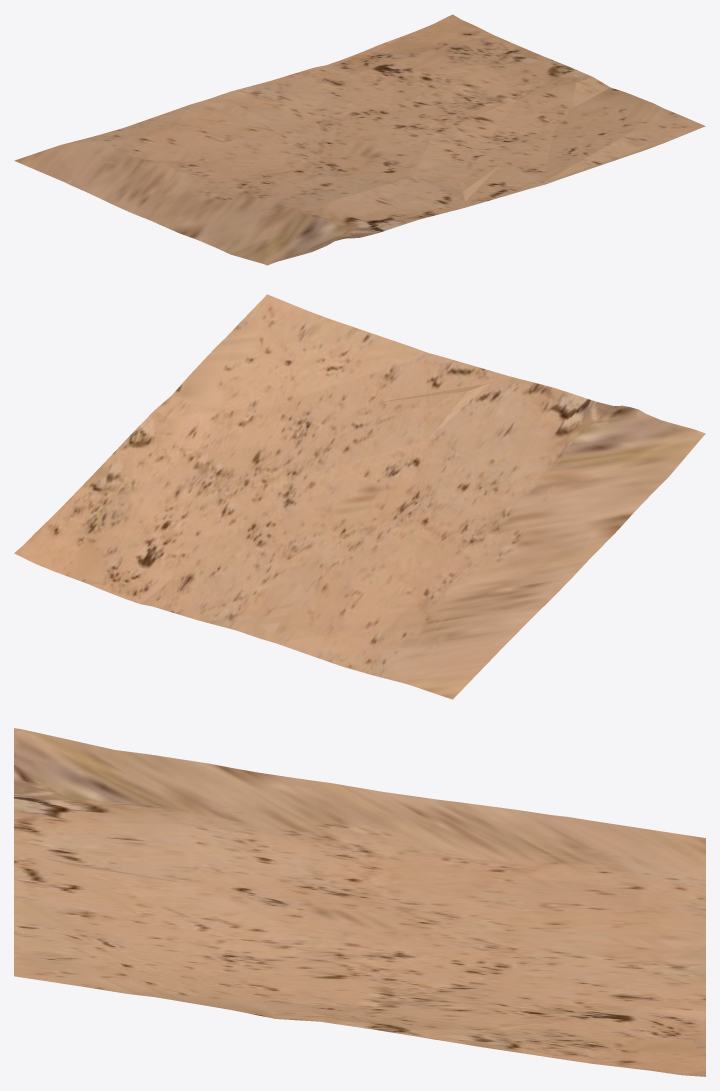
3 renders of one model, top to bottom at view 1: azimuth 30°, elevation 25°; view 2: azimuth 150°, elevation 25°; view 3: azimuth 270°, elevation 25°, orthographic. The views are drawn at different scales.
Size of the model in its own units: 1.04 by 0.2569 by 1.04.
Materials: 2 (2 with a texture image).
